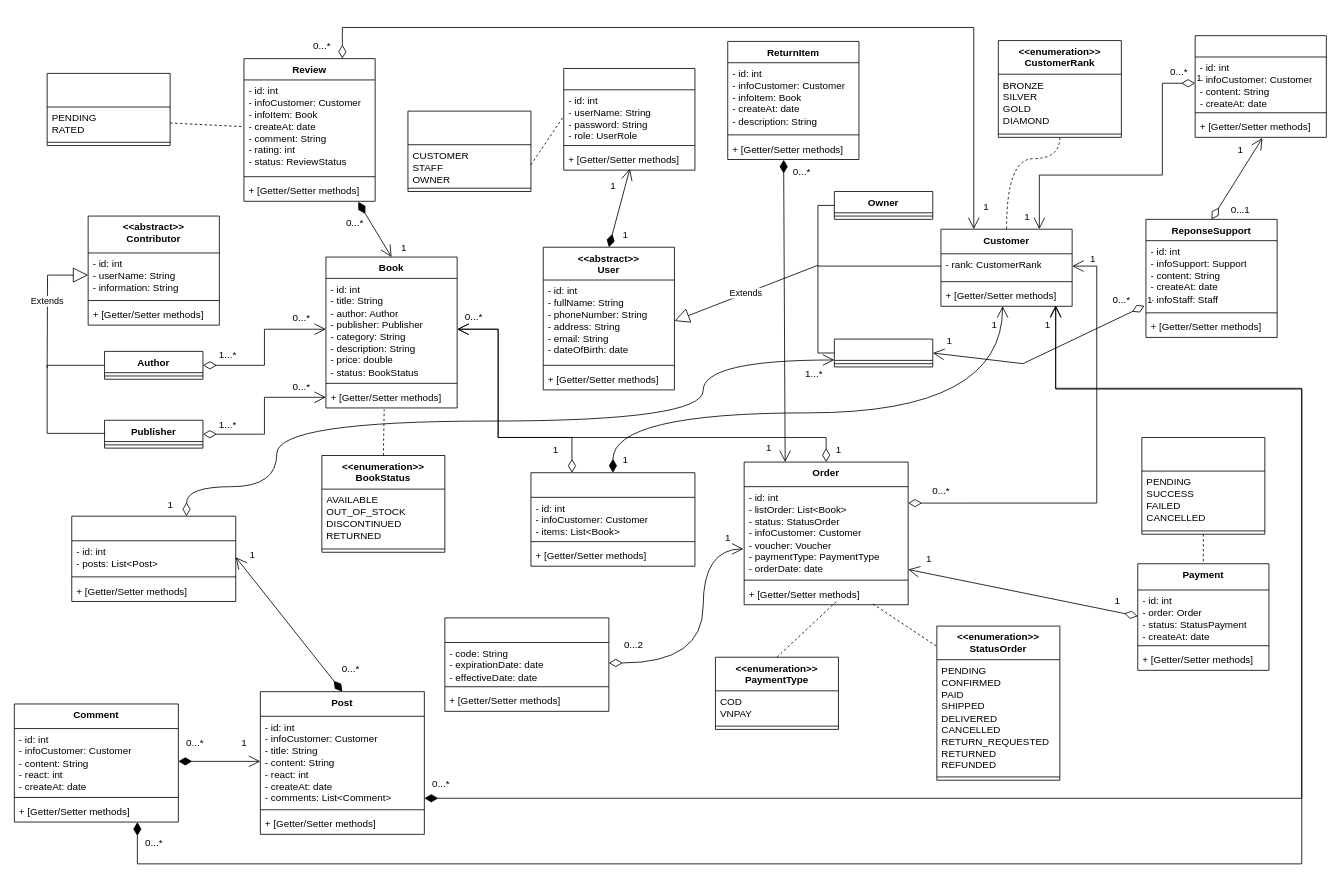
Some shapes in this 1341 by 892 pixel diagram are drawn without their labels. Each missing label, with the box of its shape:
<<enumeration>> ReviewStatus: (46, 73, 170, 146)
<<enumeration>> StatusPayment: (1141, 437, 1265, 534)
<<enumeration>> UserRole: (407, 110, 531, 191)
Account: (563, 68, 695, 170)
Cart: (530, 472, 695, 566)
Forum: (71, 515, 236, 601)
Staff: (834, 338, 933, 367)
Support: (1194, 35, 1326, 137)
Voucher: (444, 617, 609, 711)
